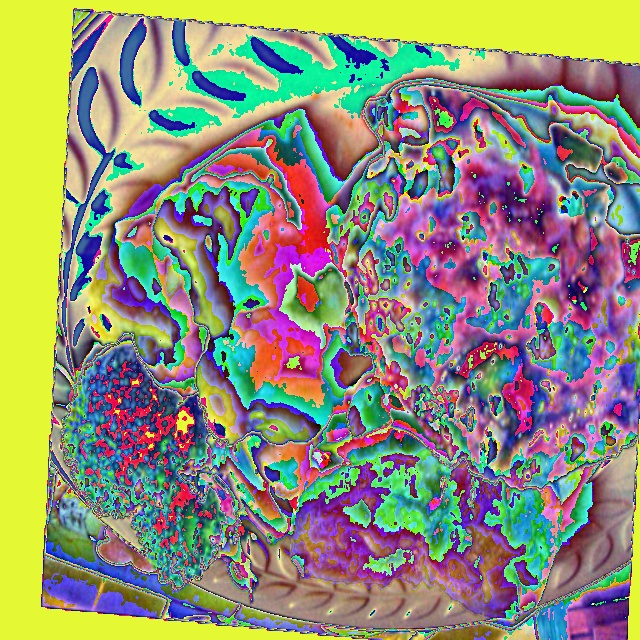background: (60, 102, 639, 624)
